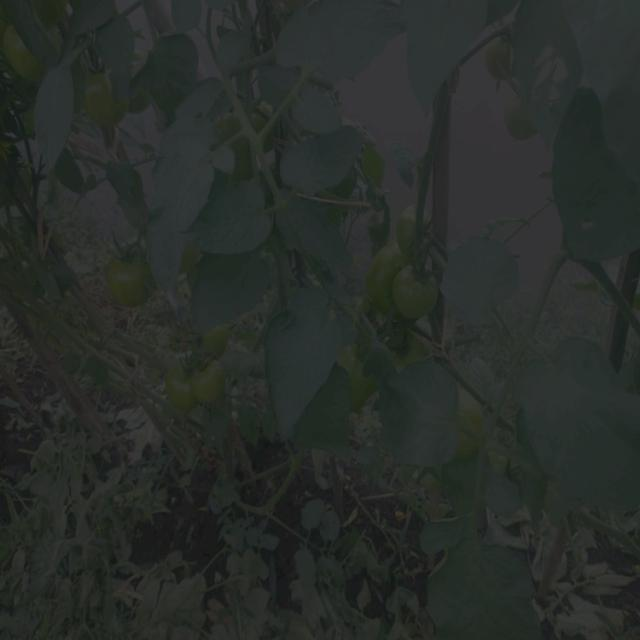tomato: (394, 261, 450, 326), (368, 239, 411, 307), (79, 70, 124, 131), (1, 27, 49, 84), (102, 246, 147, 303), (197, 358, 232, 409), (158, 367, 196, 411), (505, 102, 540, 147), (486, 31, 513, 82), (199, 323, 230, 352)
